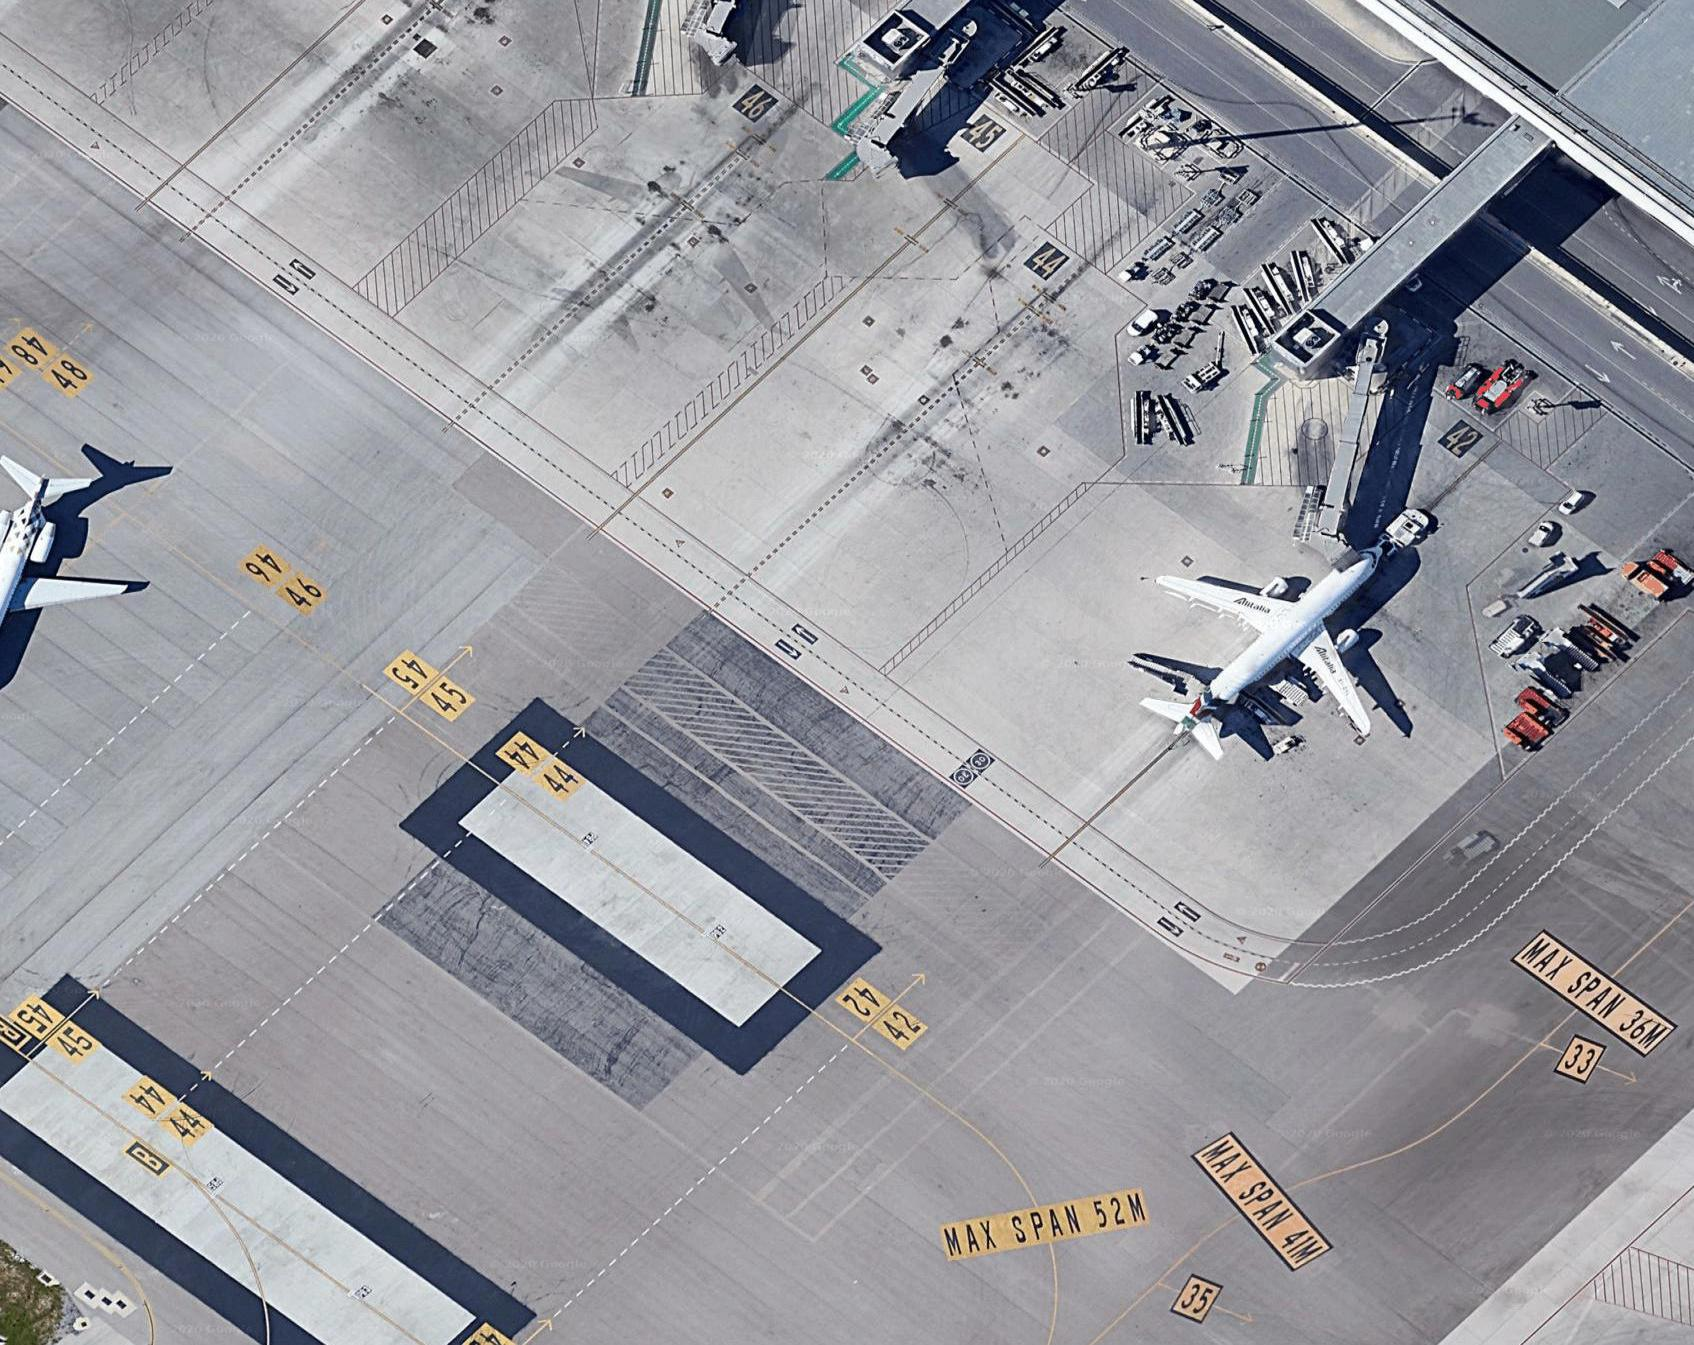plane: (1061, 432, 1515, 844), (1, 419, 147, 723)
small-vehicle: (1473, 363, 1523, 415), (1442, 360, 1485, 402)
